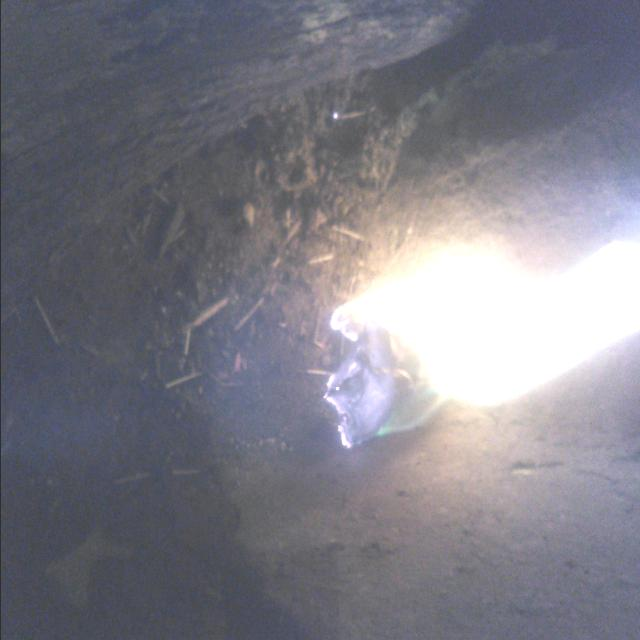firerotation: (330, 234, 640, 407)
